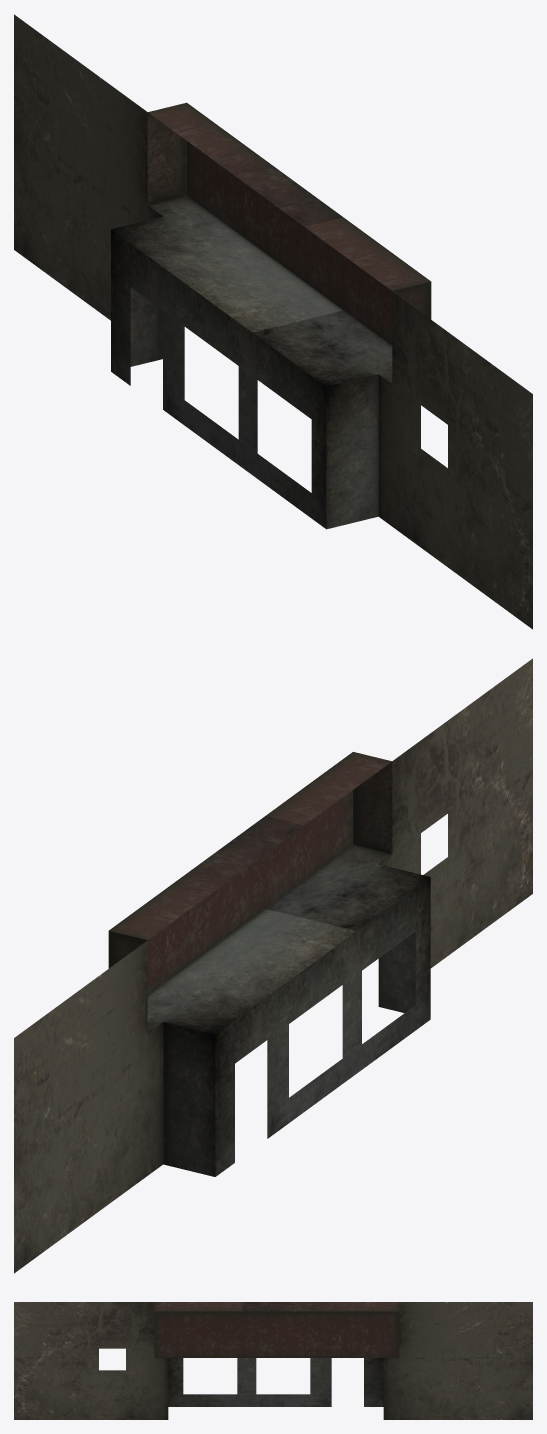
File: Wall_02.FBX
The picture shows the model from 3 angles, top to bottom: view 1: azimuth 30°, elevation 25°; view 2: azimuth 150°, elevation 25°; view 3: azimuth 270°, elevation 25°; orthographic projection. The views are drawn at different scales.
Parts seen in each view (by area): view 1: Wall_02; view 2: Wall_02; view 3: Wall_02.
Part boxes in pixels (left/top/right/bottom): Wall_02: left=14, top=14, right=532, bottom=629; Wall_02: left=14, top=658, right=532, bottom=1273; Wall_02: left=14, top=1302, right=532, bottom=1419.
Bounding box in the file's own units: 263 × 647 × 2586.
